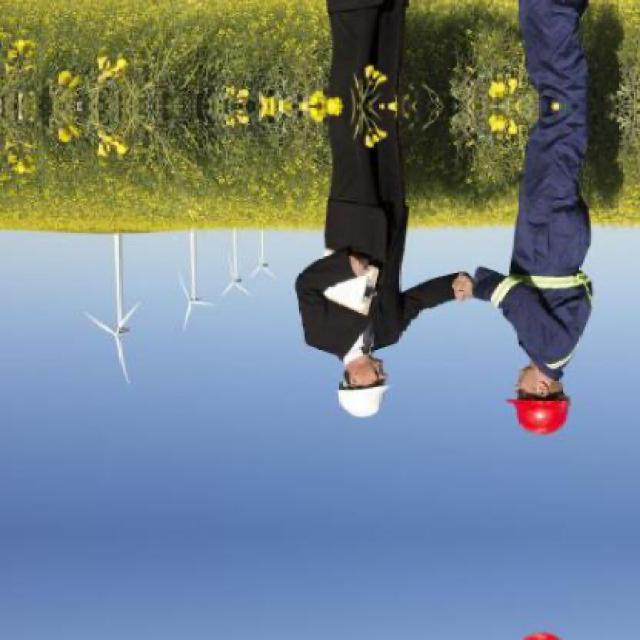con casco: (481, 322, 616, 454), (302, 325, 439, 406)
